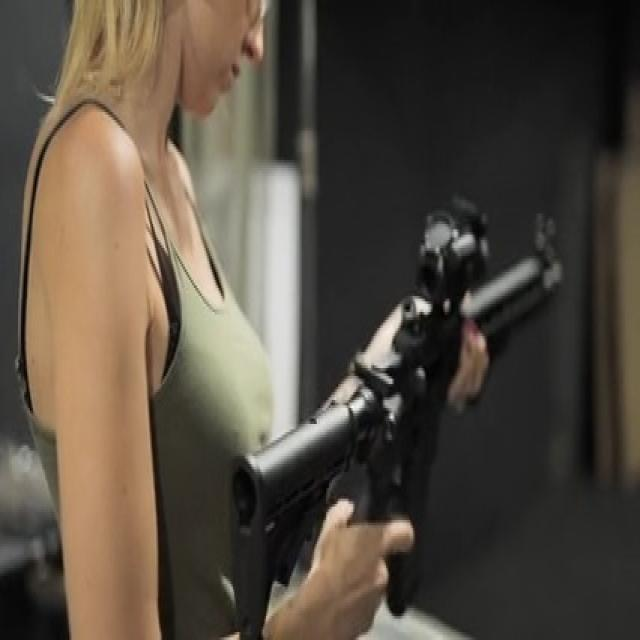Gun_Holder: (218, 196, 636, 640)
Person: (18, 0, 422, 631)
